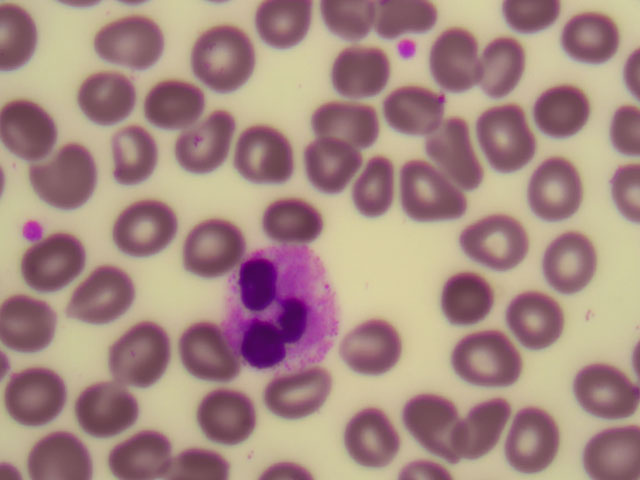Platelets: (16, 221, 49, 241), (400, 38, 419, 60)
RBC: (118, 420, 176, 480), (40, 420, 98, 480), (582, 420, 640, 480), (77, 64, 135, 123), (93, 12, 151, 71), (195, 30, 253, 89), (149, 76, 207, 135), (104, 128, 162, 187), (27, 144, 85, 203), (1, 105, 59, 164), (110, 192, 168, 251), (182, 213, 240, 272), (79, 266, 137, 325), (24, 234, 82, 293), (1, 294, 59, 353), (19, 361, 77, 420), (71, 377, 129, 436), (114, 322, 172, 381), (177, 330, 235, 389), (191, 389, 249, 448), (267, 368, 325, 427), (350, 404, 408, 463), (405, 391, 463, 450), (451, 394, 509, 453), (499, 414, 557, 473), (455, 326, 513, 385), (340, 315, 398, 374), (439, 270, 497, 329), (511, 293, 569, 352), (537, 234, 595, 293), (458, 212, 516, 271), (528, 155, 586, 214), (488, 104, 546, 163), (403, 162, 461, 221), (429, 122, 487, 181), (393, 83, 451, 142), (349, 164, 407, 223), (305, 143, 363, 202), (264, 193, 322, 252), (224, 119, 282, 178), (182, 114, 240, 173), (320, 91, 378, 150), (338, 36, 396, 95), (433, 30, 491, 89), (484, 35, 542, 94), (554, 10, 612, 69), (529, 85, 587, 144), (576, 352, 634, 411), (248, 1, 306, 59), (310, 1, 368, 59)
WBC: (222, 245, 342, 372)
